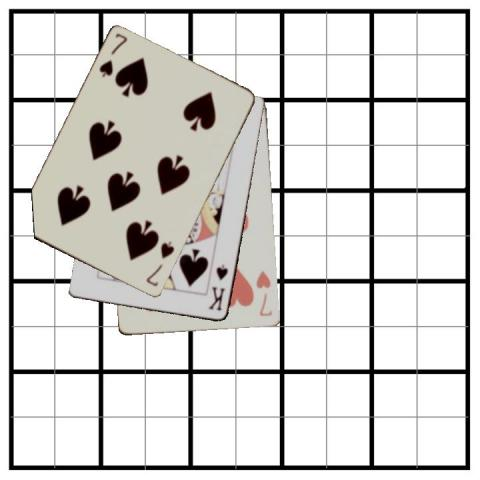7h: (253, 268, 274, 318)
7s: (143, 239, 176, 288), (96, 31, 129, 79)
Ks: (206, 261, 230, 313)
